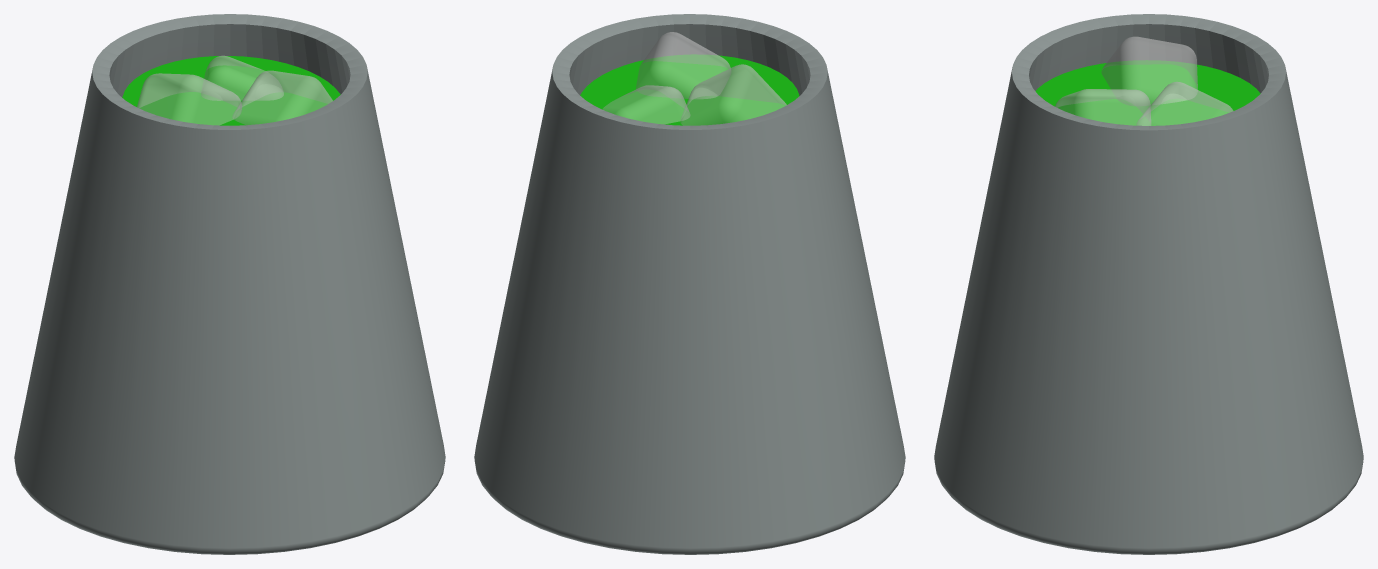
Rendered from Iced_Matcha.fbx.
The picture shows the model from 3 angles, left to right: view 1: azimuth 30°, elevation 25°; view 2: azimuth 150°, elevation 25°; view 3: azimuth 270°, elevation 25°; orthographic projection.
Visible parts, largest first — view 1: szklanka, Cylinder.002, Cube, Cube.002, Cube.001; view 2: szklanka, Cylinder.002, Cube, Cube.002, Cube.001; view 3: szklanka, Cylinder.002, Cube, Cube.002, Cube.001.
Boxes of the visible parts, box(x1,y1,x2,y2) form: szklanka: box(14, 14, 445, 554); Cylinder.002: box(122, 56, 340, 125); Cube: box(137, 73, 241, 125); Cube.002: box(232, 70, 332, 124); Cube.001: box(201, 55, 283, 100); szklanka: box(474, 14, 905, 554); Cylinder.002: box(580, 54, 799, 125); Cube: box(680, 64, 786, 125); Cube.002: box(636, 32, 730, 98); Cube.001: box(602, 85, 689, 123); szklanka: box(934, 14, 1363, 554); Cylinder.002: box(1035, 60, 1260, 125); Cube: box(1101, 36, 1197, 105); Cube.002: box(1055, 89, 1150, 125); Cube.001: box(1137, 82, 1233, 125).
Size of the model in its own units: 198 by 206 by 197.
